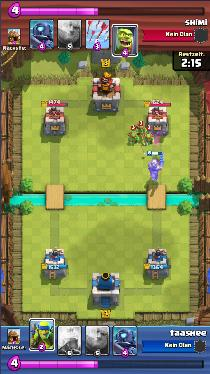ally_prince: (147, 150, 163, 180)
enemy_spear_goblin: (144, 132, 155, 146), (127, 132, 139, 144), (137, 125, 147, 136)
